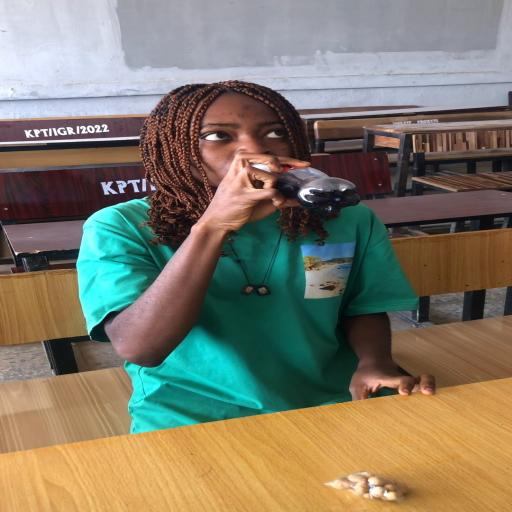Eating: (77, 80, 436, 434)
